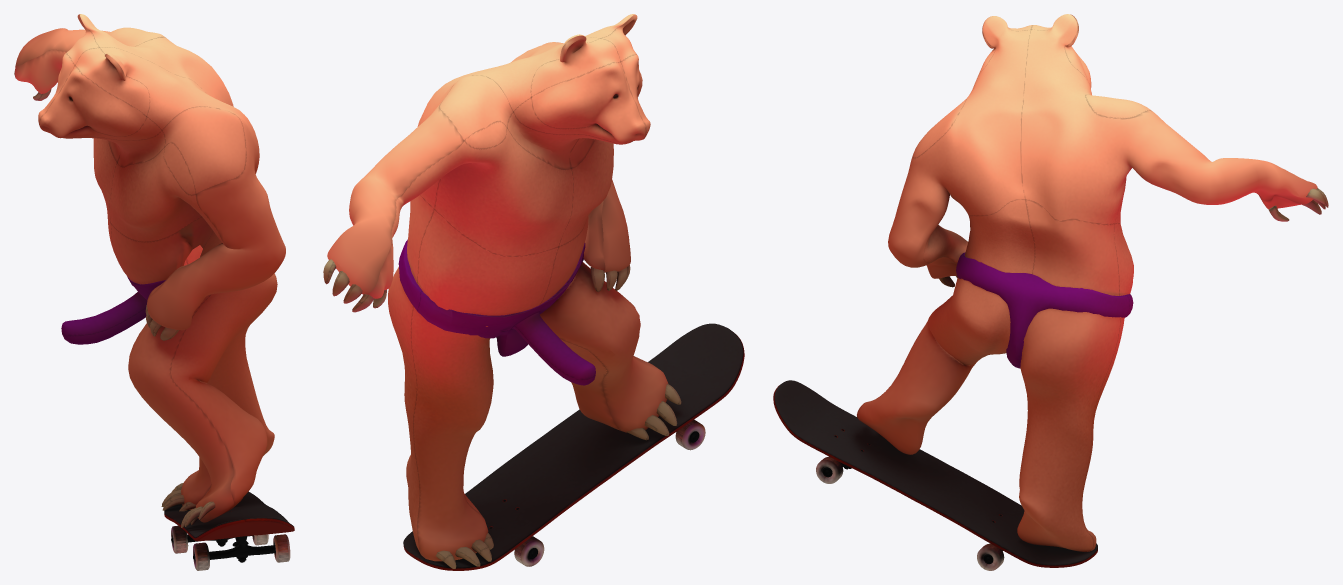
File: Bear_01.fbx
3 views of the same model, side by side, from view 1: azimuth 30°, elevation 25°; view 2: azimuth 150°, elevation 25°; view 3: azimuth 270°, elevation 25° (orthographic). The views are drawn at different scales.
Visible parts, largest first — view 1: Bear; view 2: Bear; view 3: Bear.
Boxes of the visible parts, bbox=[...] form: Bear: bbox=[14, 14, 294, 570]; Bear: bbox=[323, 14, 744, 570]; Bear: bbox=[773, 14, 1328, 570].
Size of the model in its own units: 463 by 1036 by 1051.
